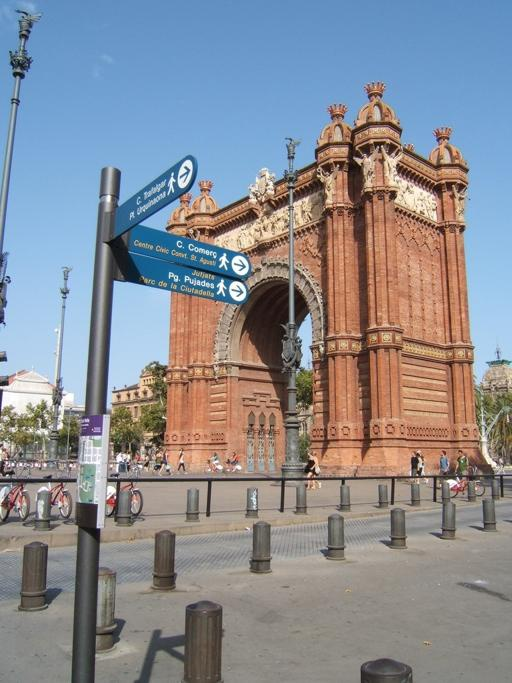non-vehicle: (106, 461, 143, 518), (35, 467, 72, 517), (0, 465, 30, 520), (441, 465, 484, 498), (223, 459, 242, 473), (204, 459, 223, 472)
